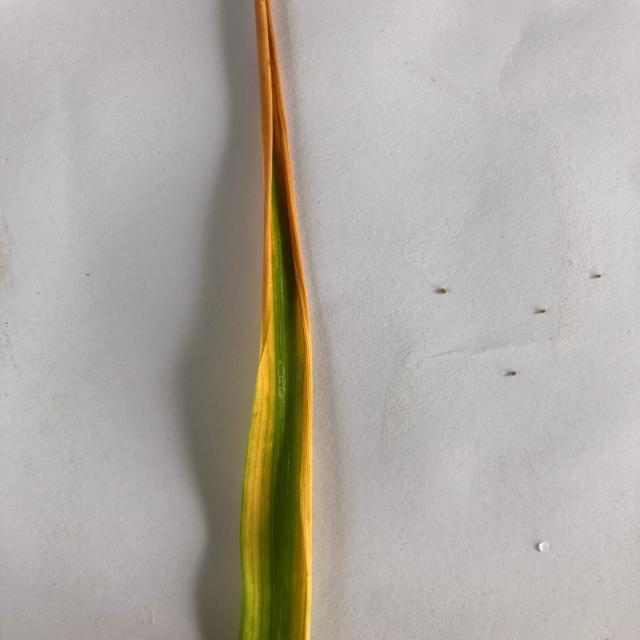Rice Tungro: (253, 3, 293, 168), (283, 175, 311, 347), (261, 173, 276, 370)
